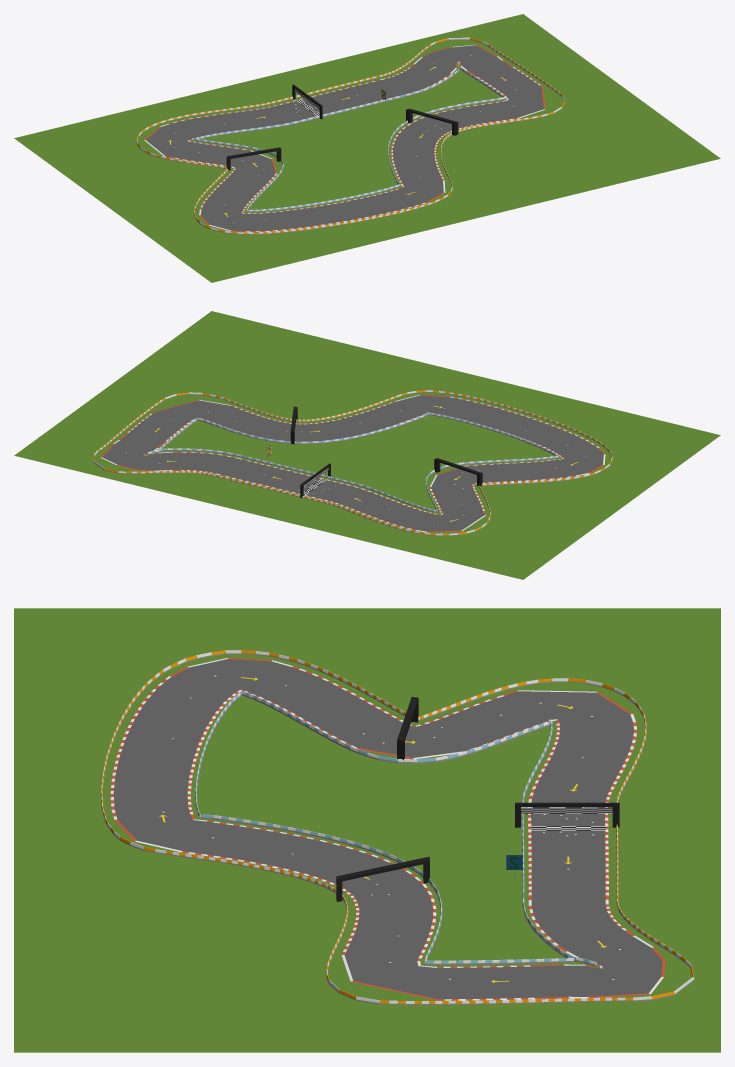
Rendered from basic-track2.glb.
The picture shows the model from 3 angles, top to bottom: view 1: azimuth 30°, elevation 25°; view 2: azimuth 150°, elevation 25°; view 3: azimuth 270°, elevation 25°; orthographic projection. The views are drawn at different scales.
Parts seen in each view (by area): view 1: ground, road, outer-fence, inner-fence; view 2: ground, road, outer-fence, inner-fence; view 3: ground, road, outer-fence, inner-fence, goal, checkpoint1.
Boxes of the visible parts, bbox=[...] form: ground: bbox=[14, 14, 720, 282]; road: bbox=[144, 44, 545, 232]; outer-fence: bbox=[136, 37, 565, 234]; inner-fence: bbox=[194, 62, 505, 212]; ground: bbox=[14, 311, 720, 579]; road: bbox=[100, 394, 605, 532]; outer-fence: bbox=[92, 390, 612, 535]; inner-fence: bbox=[147, 412, 558, 512]; ground: bbox=[14, 608, 720, 1052]; road: bbox=[110, 657, 665, 1000]; outer-fence: bbox=[100, 650, 694, 1004]; inner-fence: bbox=[195, 691, 596, 966]; goal: bbox=[515, 802, 619, 827]; checkpoint1: bbox=[336, 856, 429, 901].
Size of the model in its own units: 1055 by 37.28 by 710.
Materials: 3 (3 with a texture image).
